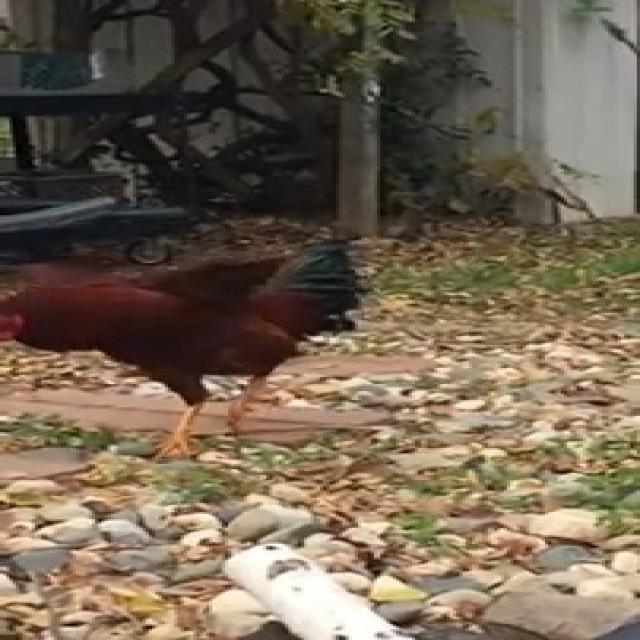wing flap: (0, 240, 380, 476)
